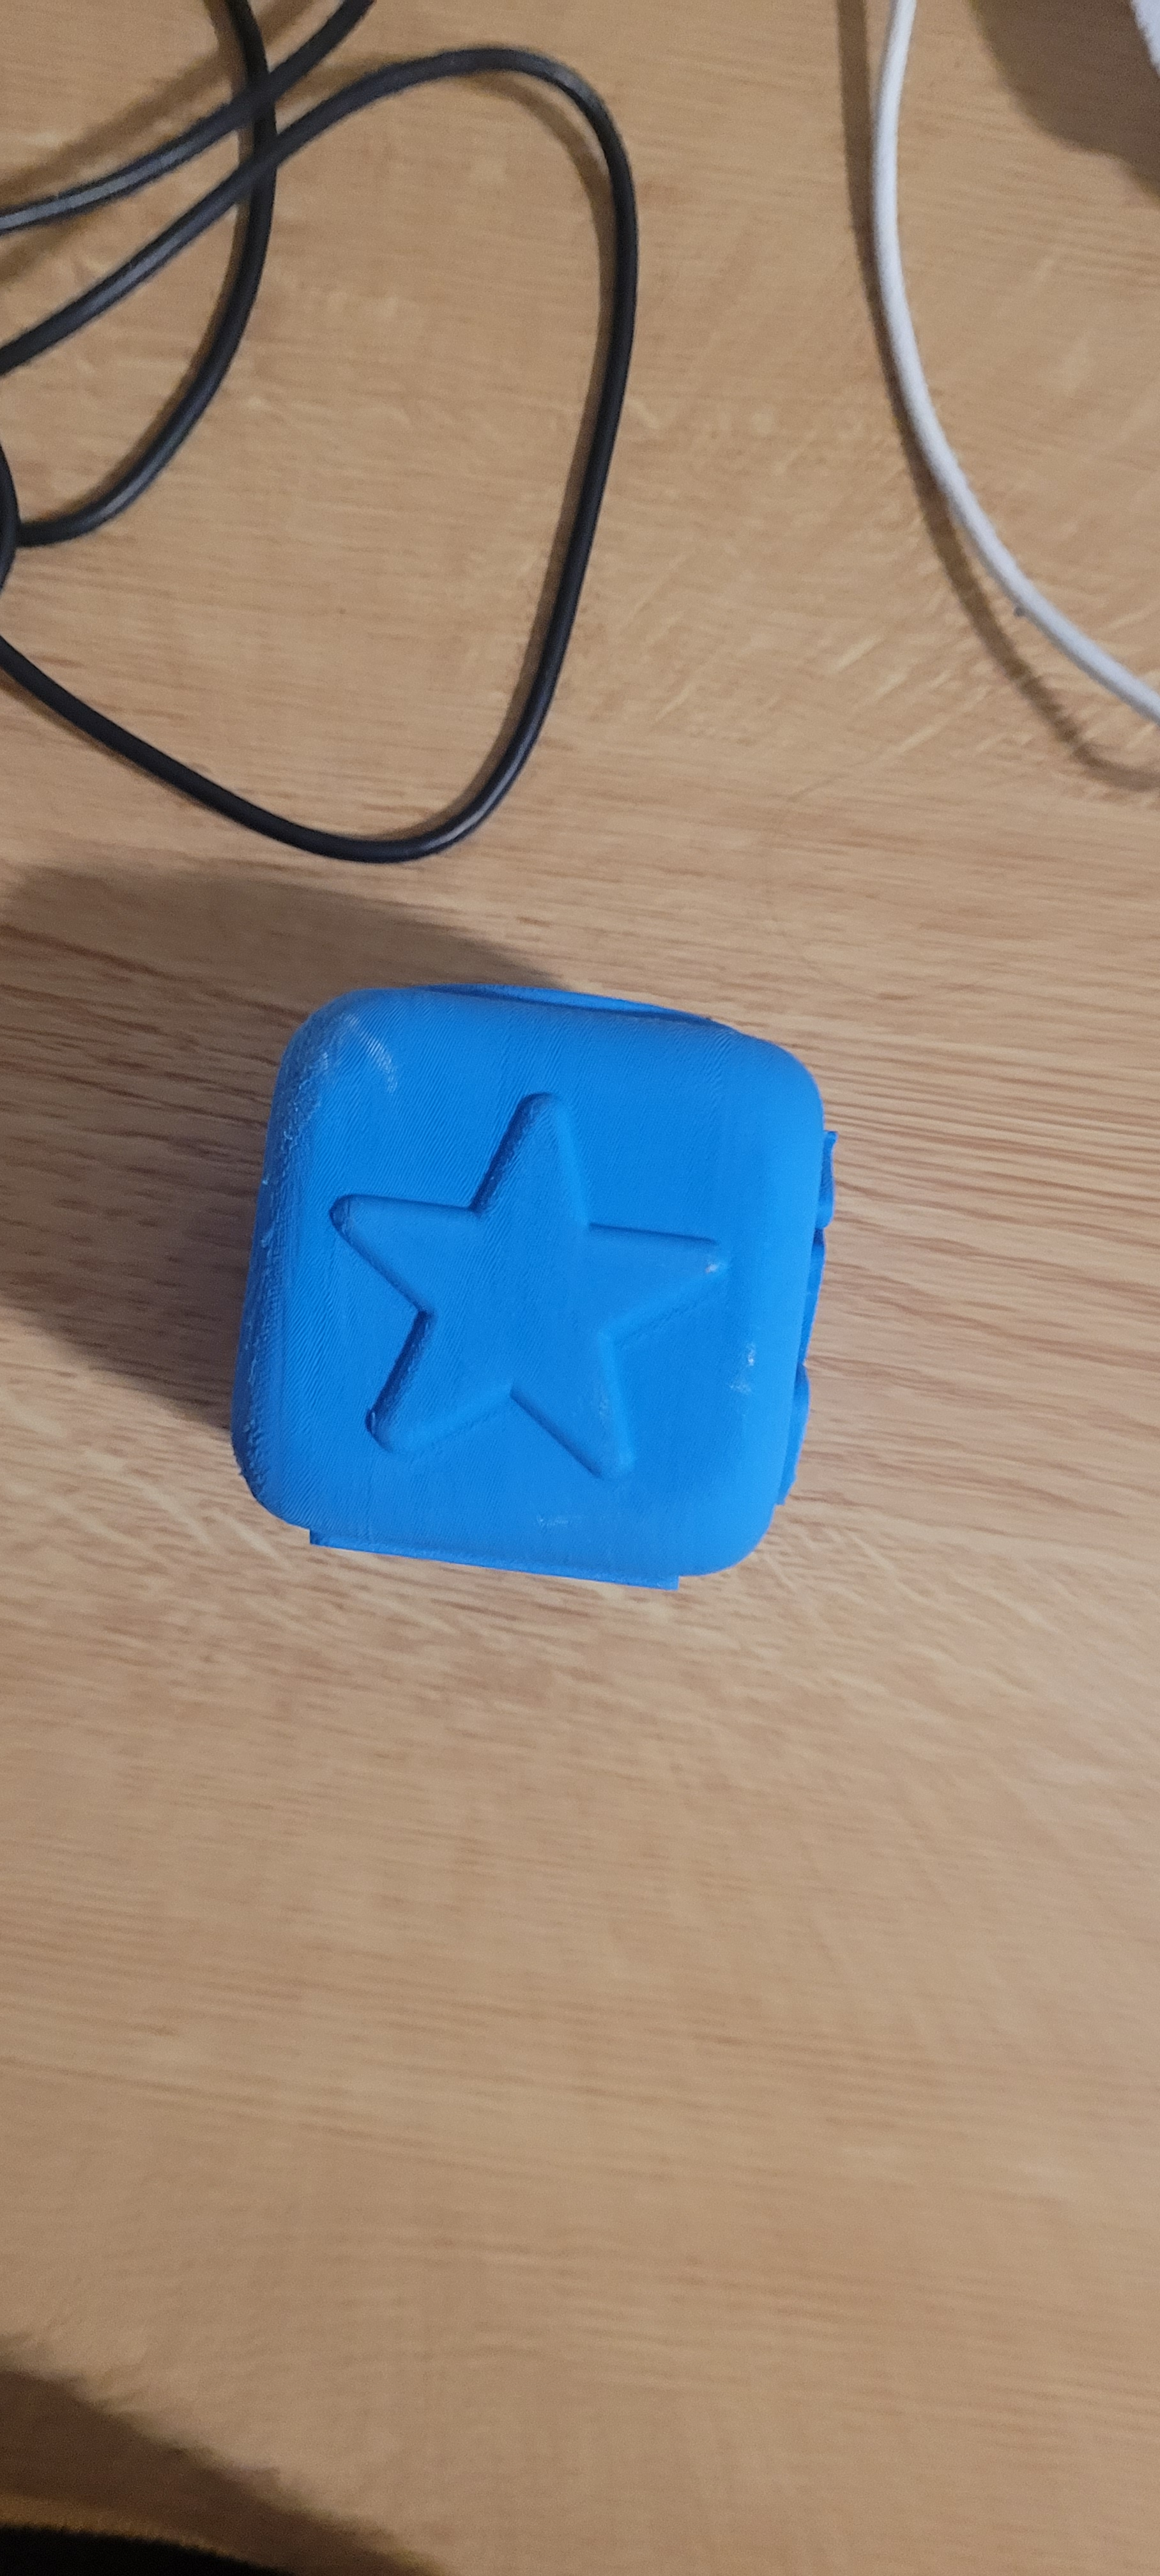Star: (284, 1053, 790, 1480)
